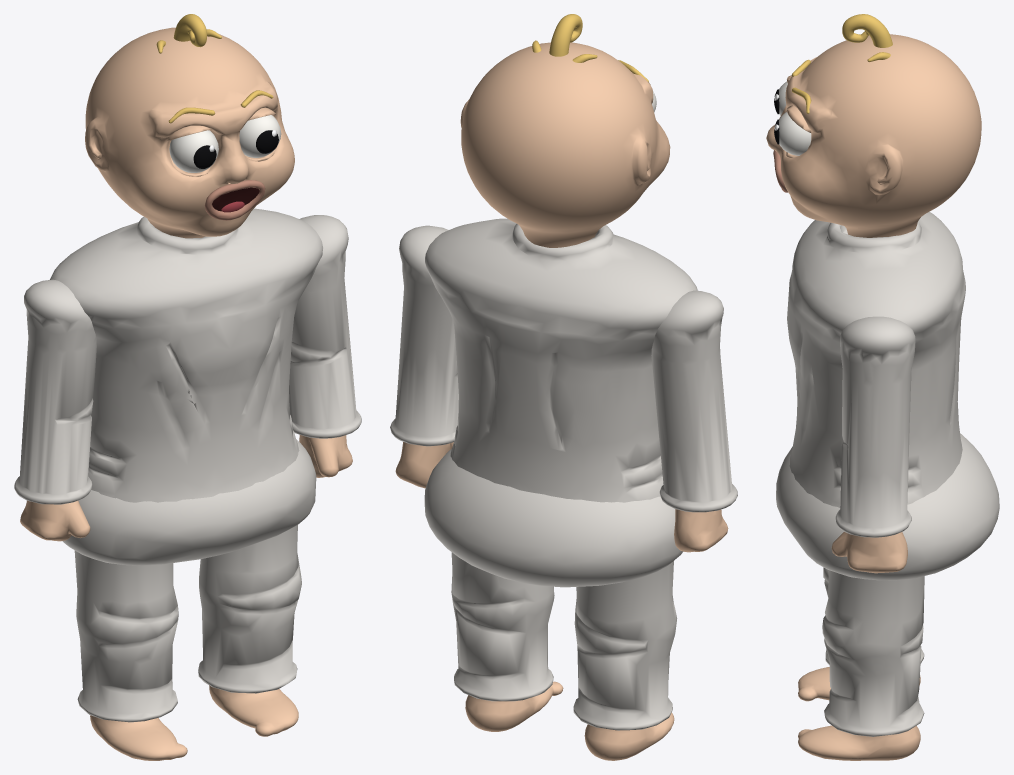
Rendered from baby.glb.
3 views of the same model, side by side, from view 1: azimuth 30°, elevation 25°; view 2: azimuth 150°, elevation 25°; view 3: azimuth 270°, elevation 25° (orthographic).
Visible parts, largest first — view 1: Body_Mesh, Head_Mesh, LegR_Mesh, ArmR_Mesh, LegL_Mesh, ArmL_Mesh, Mouth; view 2: Body_Mesh, Head_Mesh, ArmR_Mesh, LegR_Mesh, LegL_Mesh, ArmL_Mesh; view 3: Body_Mesh, Head_Mesh, LegL_Mesh, ArmL_Mesh, LegR_Mesh.
Part boxes in pixels (x1,y1,x2,y2): Body_Mesh: [50, 208, 322, 565]; Head_Mesh: [85, 14, 294, 238]; LegR_Mesh: [74, 550, 187, 760]; ArmR_Mesh: [14, 279, 96, 541]; LegL_Mesh: [198, 525, 301, 736]; ArmL_Mesh: [289, 215, 361, 477]; Mouth: [204, 180, 265, 220]; Body_Mesh: [424, 218, 697, 587]; Head_Mesh: [460, 14, 670, 247]; ArmR_Mesh: [651, 290, 737, 552]; LegR_Mesh: [573, 561, 677, 760]; LegL_Mesh: [451, 552, 563, 731]; ArmL_Mesh: [390, 225, 458, 488]; Body_Mesh: [776, 211, 999, 580]; Head_Mesh: [766, 14, 981, 237]; LegL_Mesh: [798, 570, 924, 760]; ArmL_Mesh: [831, 316, 915, 573]; LegR_Mesh: [798, 567, 924, 701].
Size of the model in its own units: 0.2835 by 0.573 by 0.1707.
